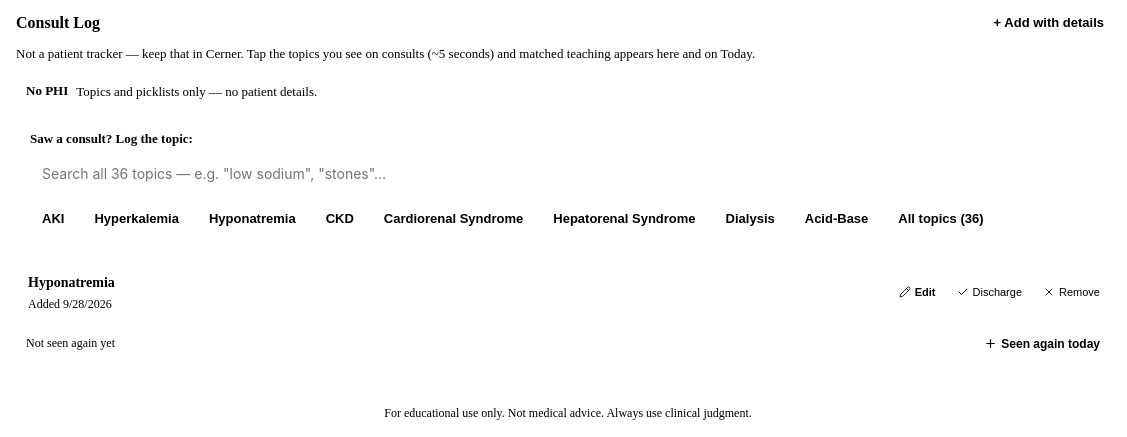
Test case: PatientTab (picklist-only consult log) › records a follow-up as a date only, once per day
Click the button with aria-label "Mark Hyponatremia seen again today".
click(1042, 344)  # box [974,326,1110,362]
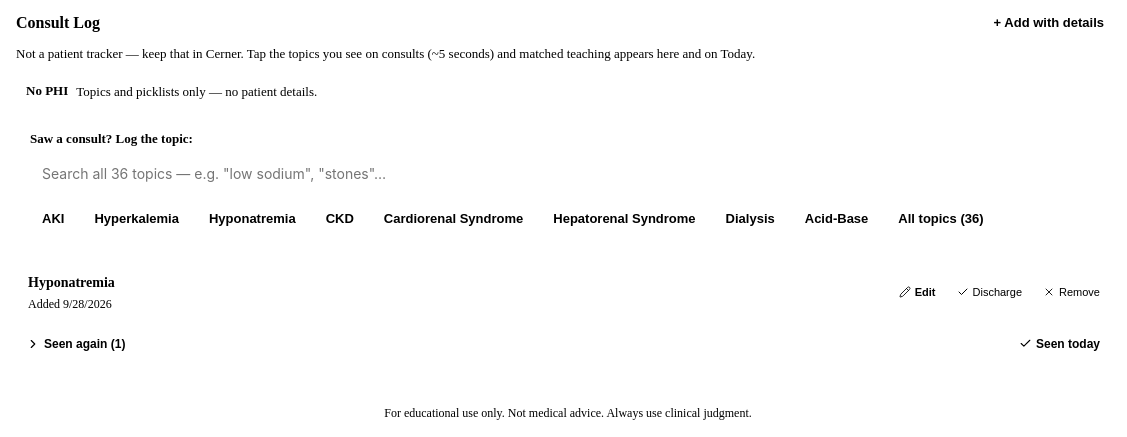
Result: the button with aria-label "Already marked seen today" is disabled at [1009,326,1110,362]
